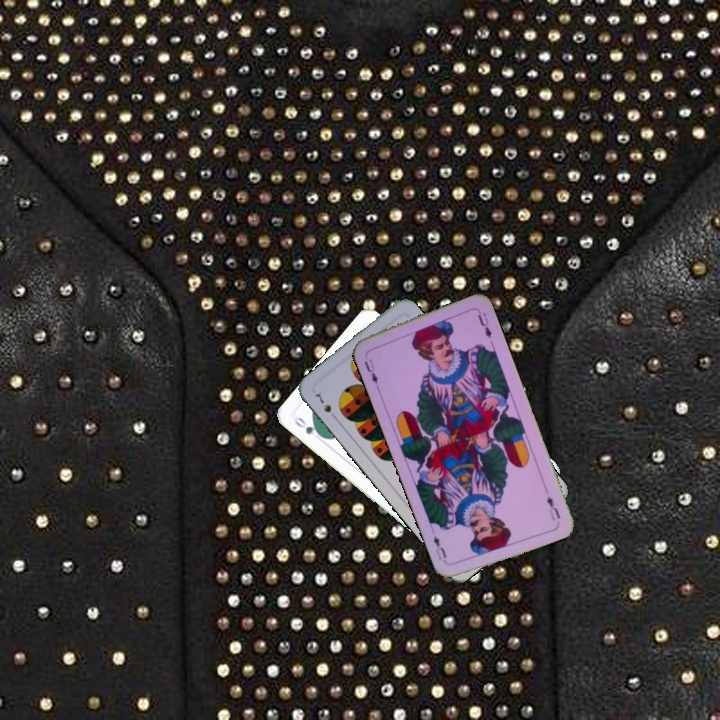EU: (360, 355, 381, 386), (543, 492, 563, 523)
GO: (290, 413, 326, 440)
S7: (311, 389, 340, 422)
